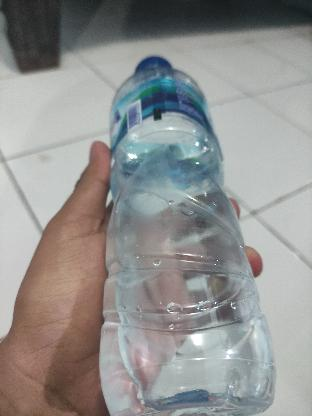Plastic Bottle: (96, 50, 282, 416)
